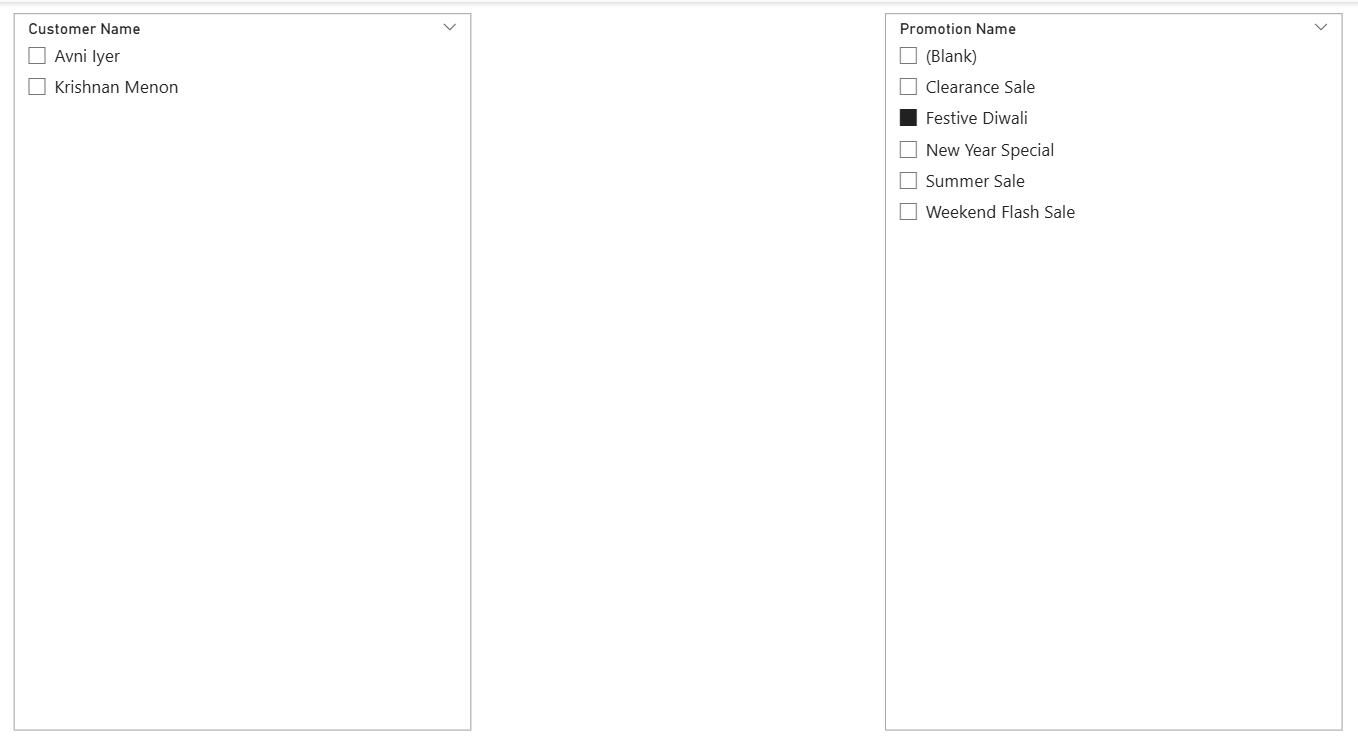

What the dashboard file says about the page in this screenshot:
{"tool":"powerbi","page":{"name":"Filter Page ","canvas":[1280,720],"ordinal":5},"visuals":[{"type":"slicer","fields":{"Values":["Dim Customers.Customer Name"]},"box":[22,11,425.4,666.9],"z":0},{"type":"slicer","fields":{"Values":["Dim Promotion.Promotion Name"]},"box":[832.9,11,425.4,666.9],"z":1000}]}

Visuals, with their boxes in screenshot pixels (x1, y1, x2, y2), scaled from the page's 1280x720 canvas onto the 1358x754 screenshot:
slicer - Dim Customers.Customer Name: 23:12:475:710
slicer - Dim Promotion.Promotion Name: 884:12:1335:710
